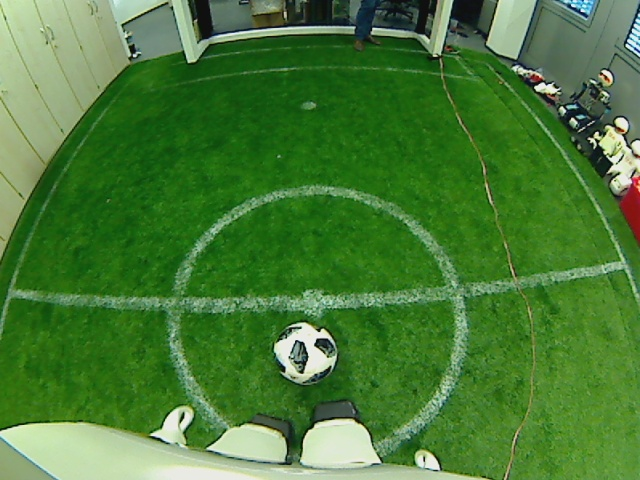ball: (274, 320, 336, 386)
